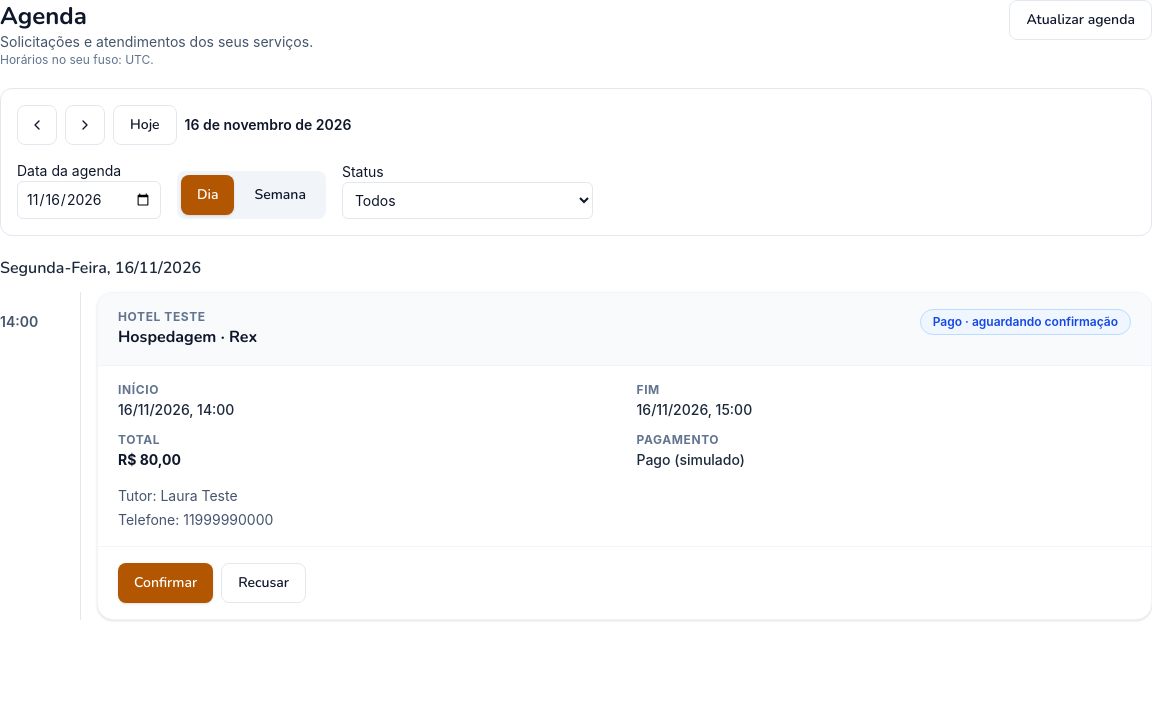
Test: recusa pré-pago pago pede confirmação e mostra estorno retornado
Step 1. Click the button "Recusar" → coordinates (264, 583), box [221,563,306,603]
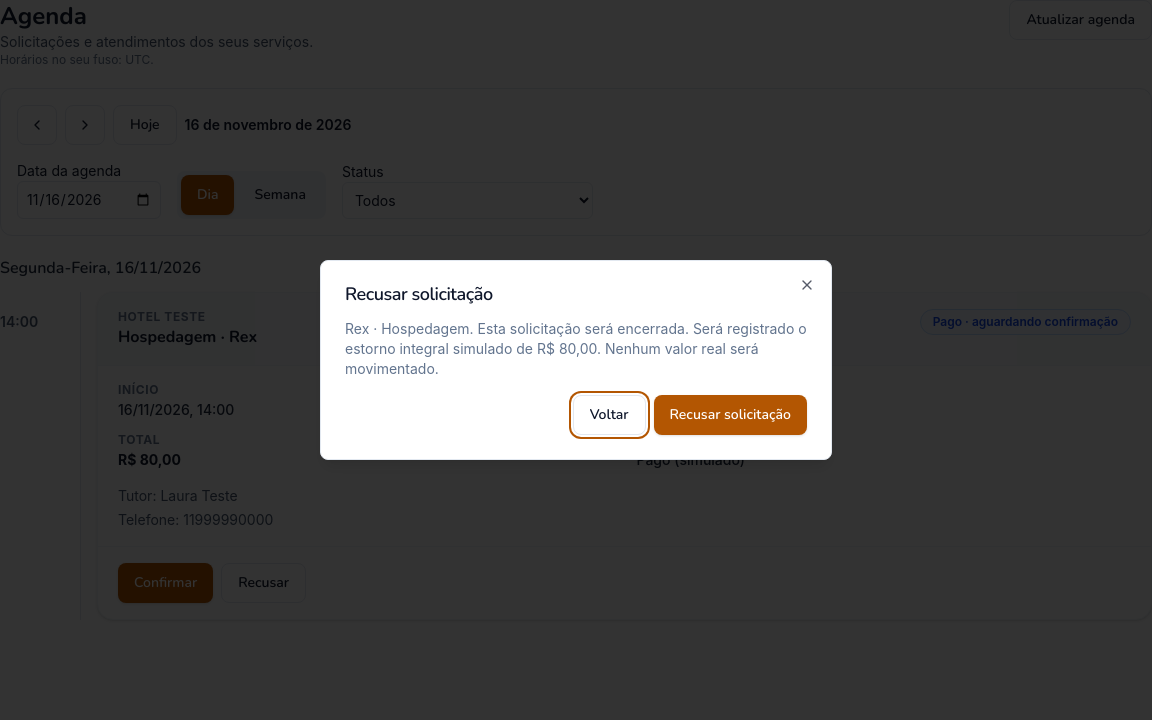
Now the dialog shows "estorno integral simulado", box [345,320,807,377]
Step 2. Click the button "Recusar solicitação" → coordinates (730, 415), box [654,395,807,435]
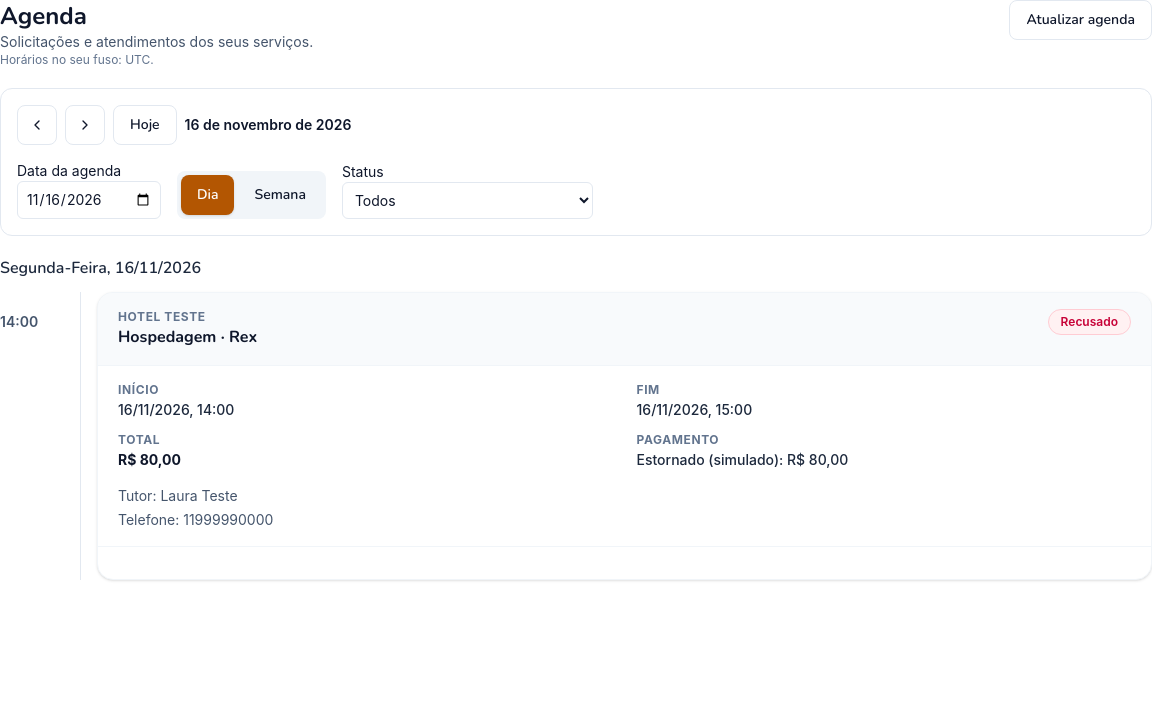
Now the text "Estornado (simulado): R$ 80,00" is shown, box [636,451,848,468]
